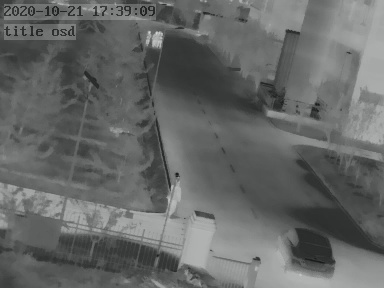person: (166, 181, 183, 217), (158, 30, 164, 49), (145, 29, 151, 46), (153, 29, 158, 48)
vehicle: (277, 225, 337, 279)
